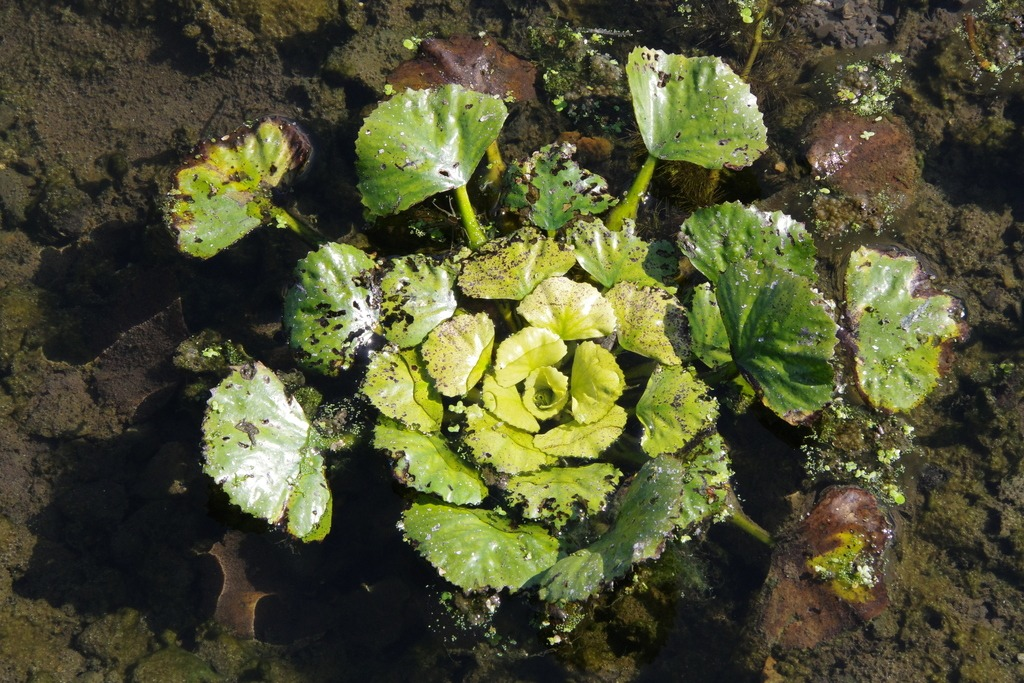water chestnut: (158, 38, 966, 610)
